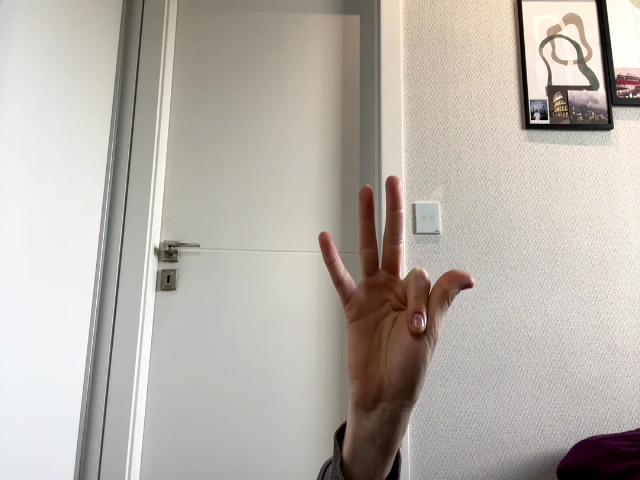F: (320, 176, 474, 399)
